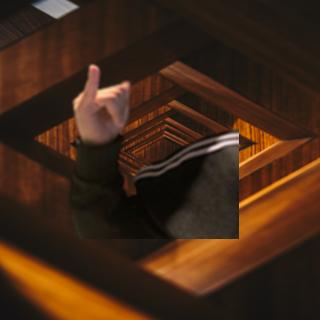HAVE: (69, 61, 134, 142)
